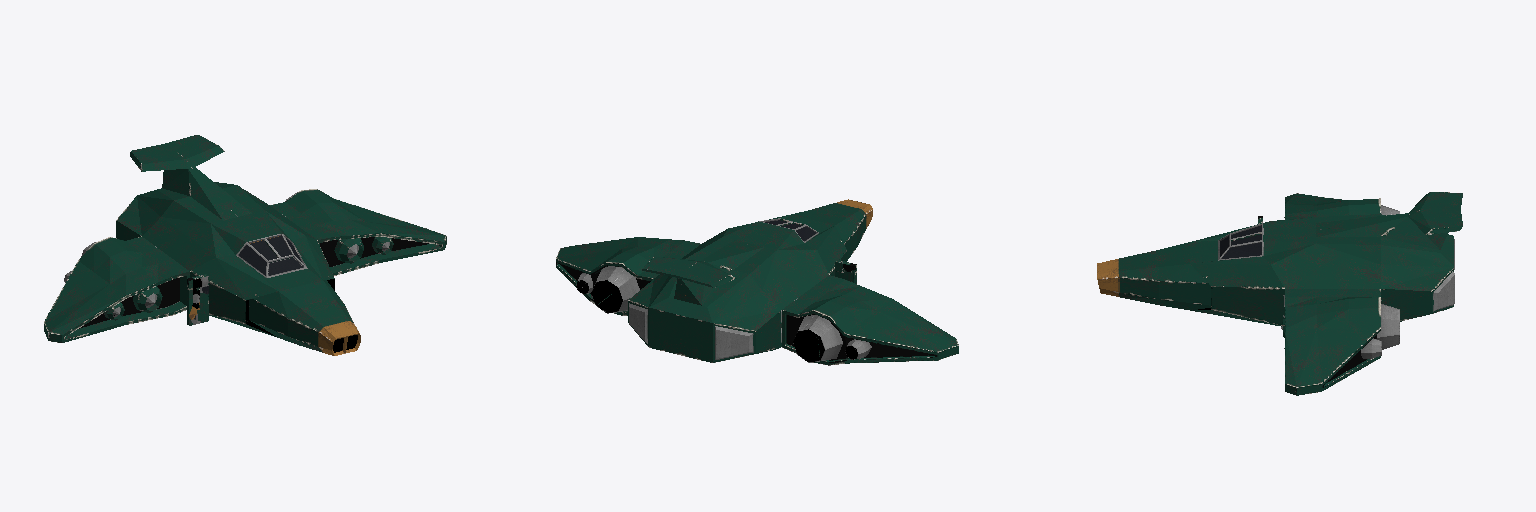
3 renders of one model, left to right at view 1: azimuth 30°, elevation 25°; view 2: azimuth 150°, elevation 25°; view 3: azimuth 270°, elevation 25°, orthographic.
Parts seen in each view (by area): view 1: Cube, Cube.001; view 2: Cube; view 3: Cube.
Boxes of the visible parts, x1=… form: Cube: x1=44, y1=135, x2=446, y2=355; Cube.001: x1=187, y1=274, x2=208, y2=325; Cube: x1=556, y1=199, x2=958, y2=365; Cube: x1=1097, y1=192, x2=1462, y2=395.
Bounding box in the file's own units: 16.57 × 3.68 × 13.19.
Materials: 1 (1 with a texture image).